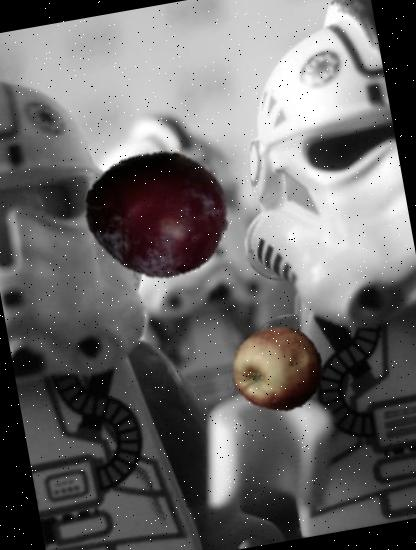Apple: (224, 316, 331, 423)
Plum: (73, 128, 241, 296)
